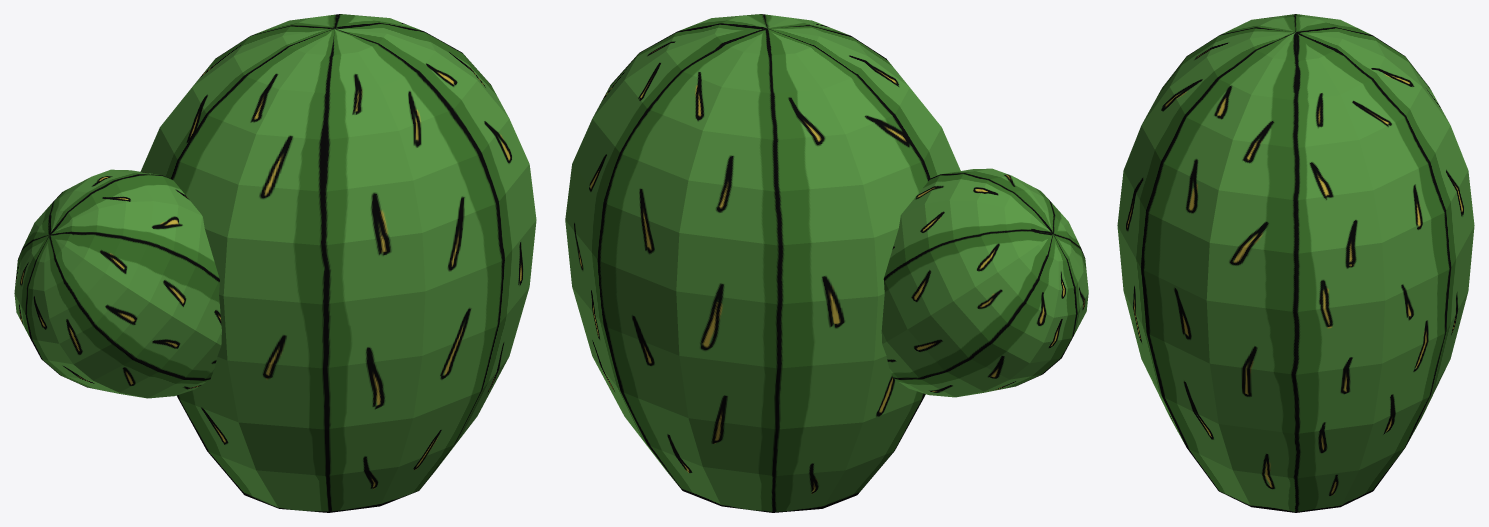
File: TACactus3.fbx
3 renders of one model, left to right at view 1: azimuth 30°, elevation 25°; view 2: azimuth 150°, elevation 25°; view 3: azimuth 270°, elevation 25°, orthographic.
Visible parts, largest first — view 1: pSphere3; view 2: pSphere3; view 3: pSphere3.
Boxes of the visible parts, x1,y1,x2,y2 form: pSphere3: (14, 14, 536, 512); pSphere3: (565, 14, 1088, 512); pSphere3: (1117, 14, 1474, 512).
Size of the model in its own units: 7.41 by 6.43 by 4.76.
